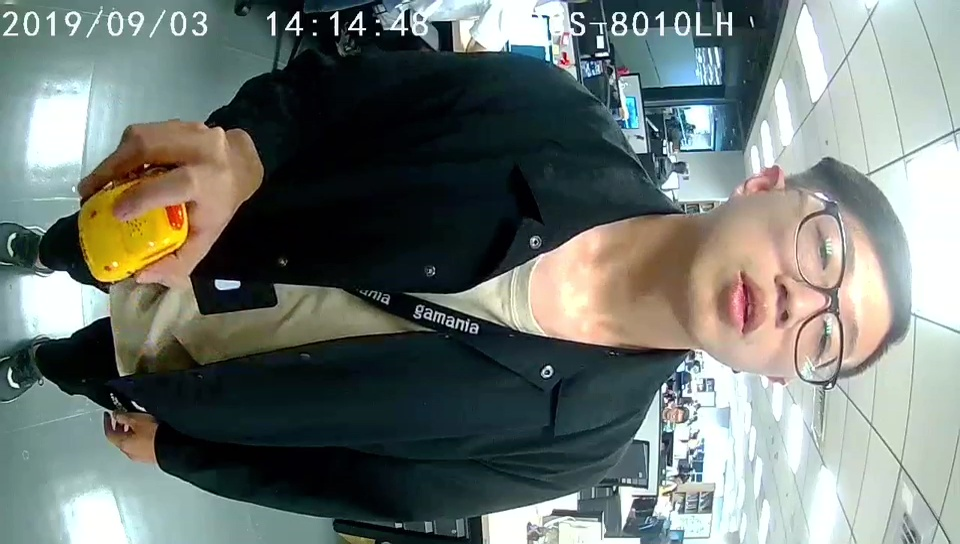car: (80, 168, 185, 280)
